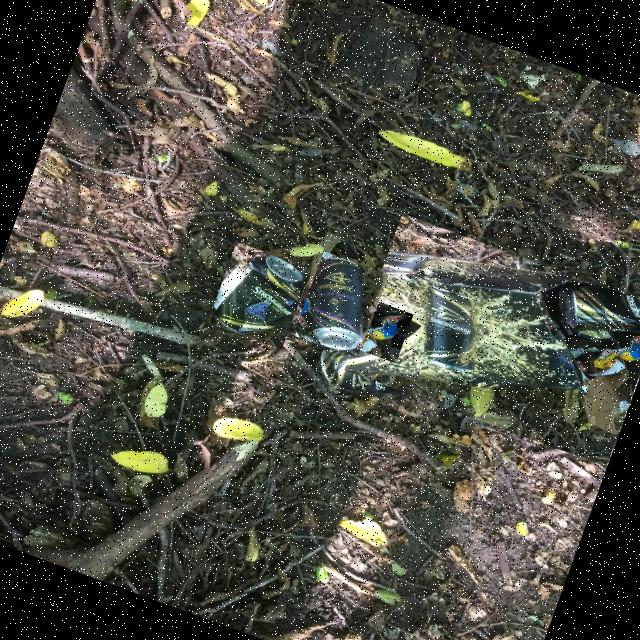Drink can: (213, 256, 304, 336), (321, 348, 449, 396), (311, 258, 364, 352), (392, 323, 456, 363)
Other carton: (346, 252, 632, 435)
Other plastic: (347, 314, 414, 349), (383, 305, 433, 331)
Pop tab: (224, 317, 240, 330)
